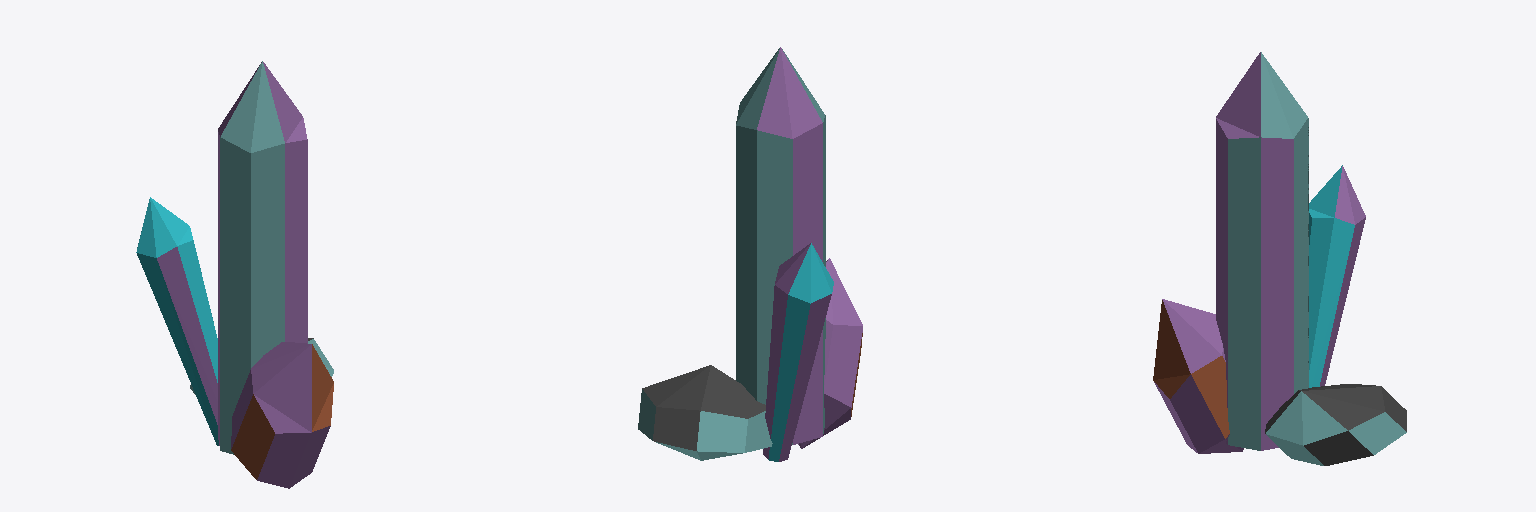
Rendered from minerais.obj.
3 views of the same model, side by side, from view 1: azimuth 30°, elevation 25°; view 2: azimuth 150°, elevation 25°; view 3: azimuth 270°, elevation 25° (orthographic).
Parts seen in each view (by area): view 1: Cube_Cube.001; view 2: Cube_Cube.001; view 3: Cube_Cube.001.
Part boxes in pixels (bbox=[...]): Cube_Cube.001: bbox=[136, 61, 333, 488]; Cube_Cube.001: bbox=[638, 47, 862, 461]; Cube_Cube.001: bbox=[1153, 52, 1406, 465].
Bounding box in the file's own units: 0.2743 × 0.5797 × 0.3281.